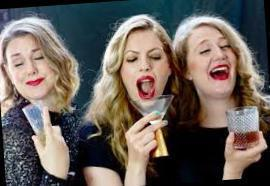Drunk: (189, 33, 239, 94), (121, 34, 165, 100), (7, 39, 50, 99)
